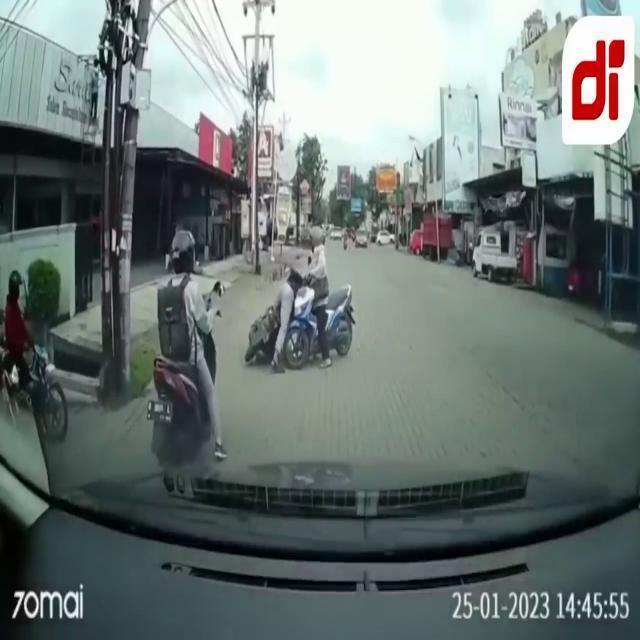accident: (244, 227, 356, 376)
non-accident: (330, 223, 368, 250)
